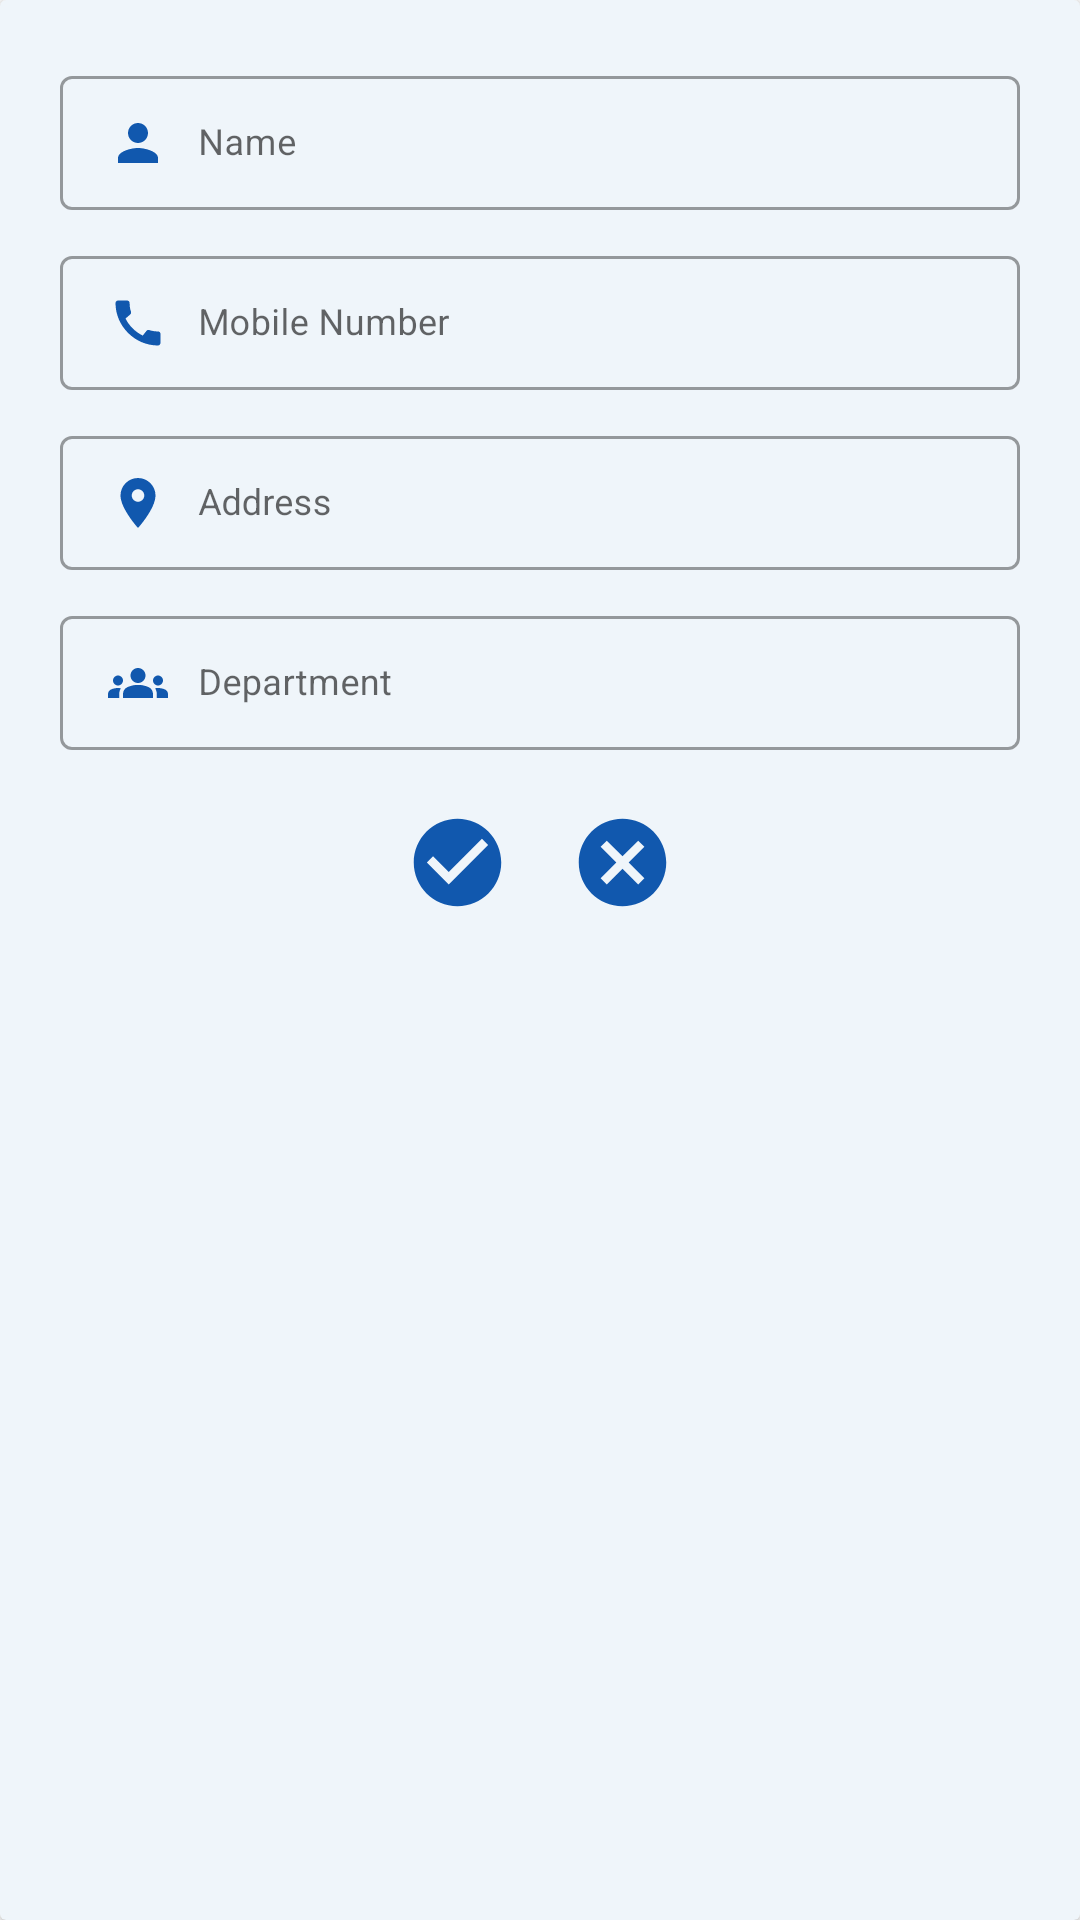

Screen size 1080px x 1920px. Icon name, then its box in pixels as bbox=[x1, y1, x2, y2]:
cancel: bbox=[578, 818, 667, 907]
check circle: bbox=[413, 818, 502, 907]
